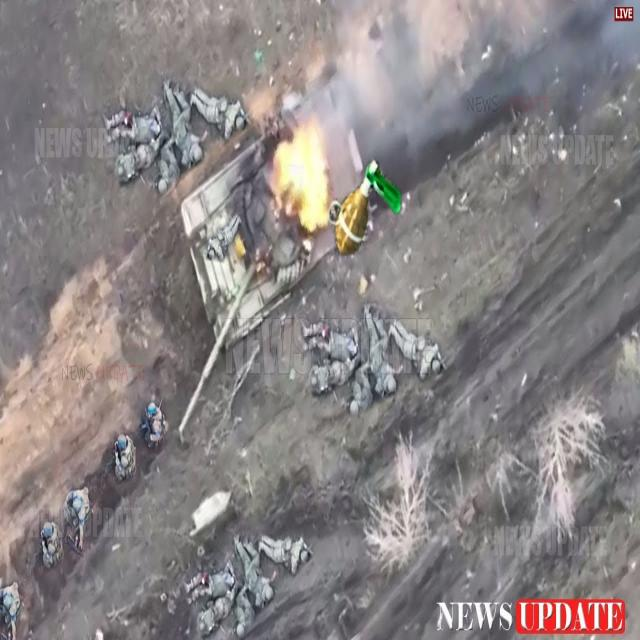destroyed: (184, 80, 372, 349)
